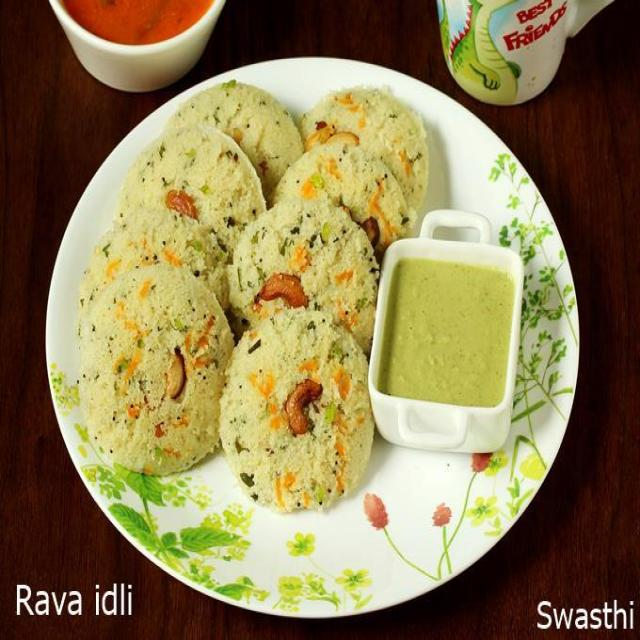rave idli: (217, 306, 386, 532), (74, 270, 232, 480), (232, 195, 375, 356), (300, 61, 445, 204), (121, 105, 262, 246), (88, 195, 241, 322), (272, 136, 414, 256)
